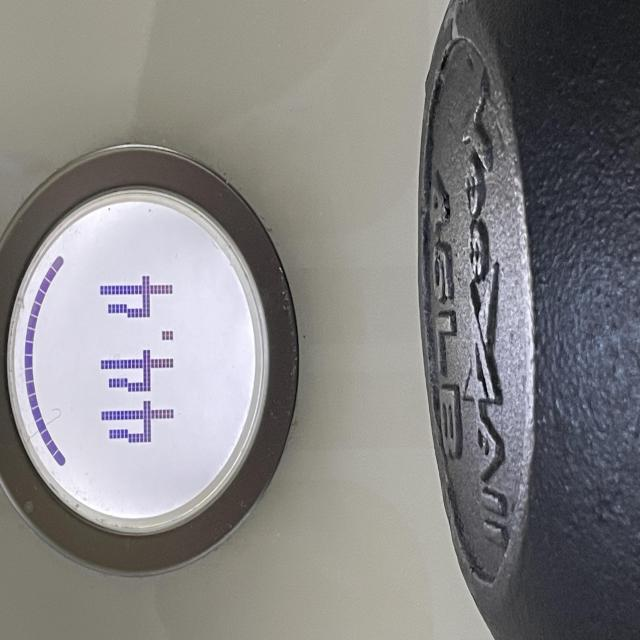ws: (0, 145, 300, 579)
